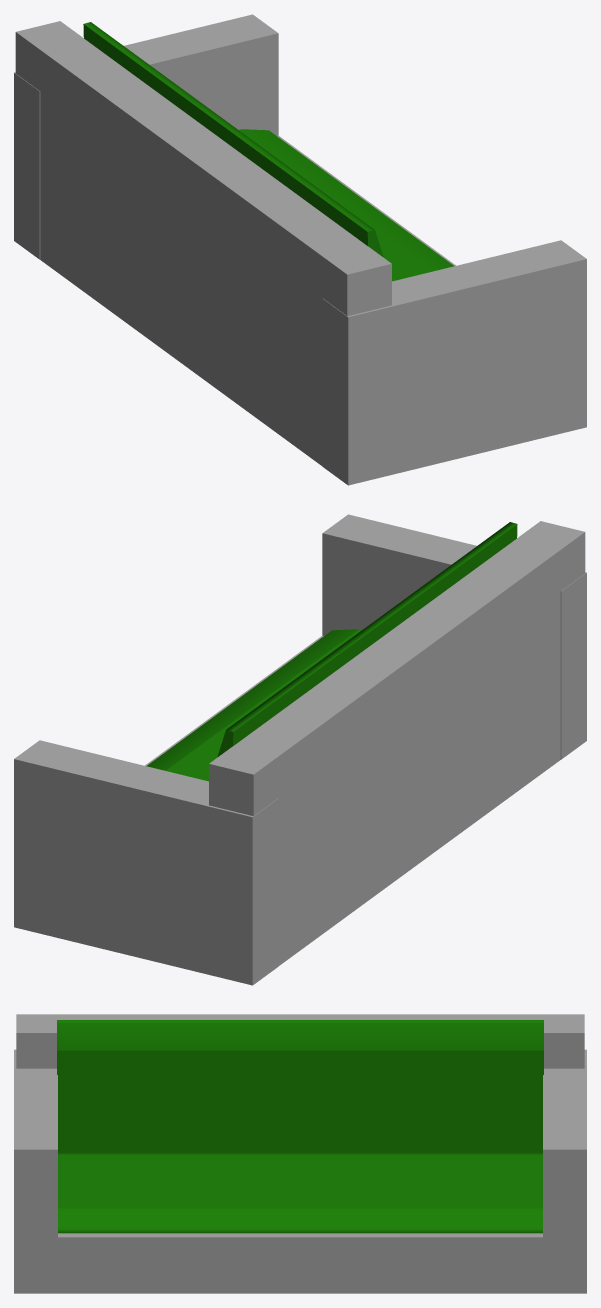
Rendered from couch.fbx.
3 views of the same model, one above another, from view 1: azimuth 30°, elevation 25°; view 2: azimuth 150°, elevation 25°; view 3: azimuth 270°, elevation 25° (orthographic). The views are drawn at different scales.
Visible parts, largest first — view 1: pCube7; view 2: pCube7; view 3: pCube7.
Boxes of the visible parts, x1=… form: pCube7: x1=14, y1=14, x2=586, y2=485; pCube7: x1=14, y1=514, x2=586, y2=985; pCube7: x1=14, y1=1014, x2=586, y2=1293.
Bounding box in the file's own units: 5.36 × 4.82 × 12.98.
